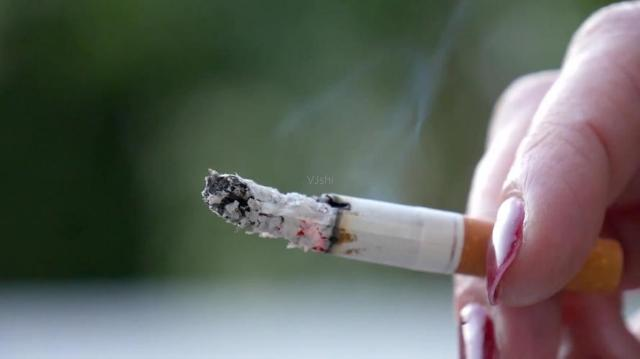Cigarette: (202, 168, 624, 290)
